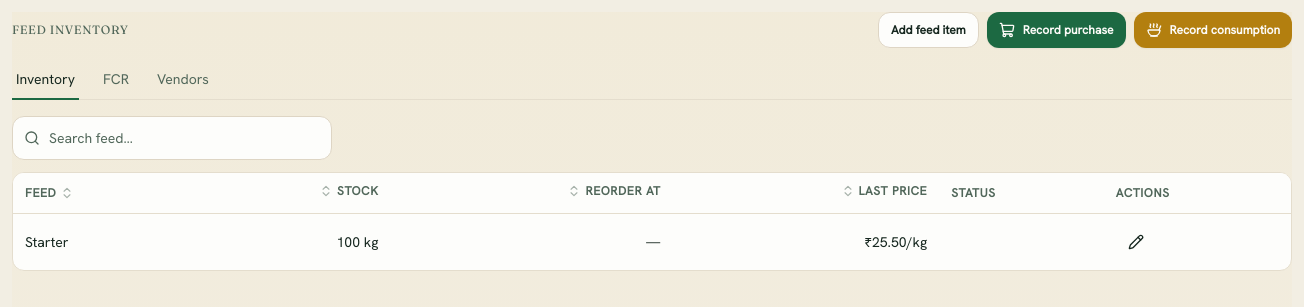
Test: FeedPanel (11.6c conversion) › shows the FCR stat tiles for the selected batch
Expected: the text "Starter" is shown, [25,232,68,250]
Step 1. Click the tab "FCR" → click(116, 80), box [99,60,133,100]
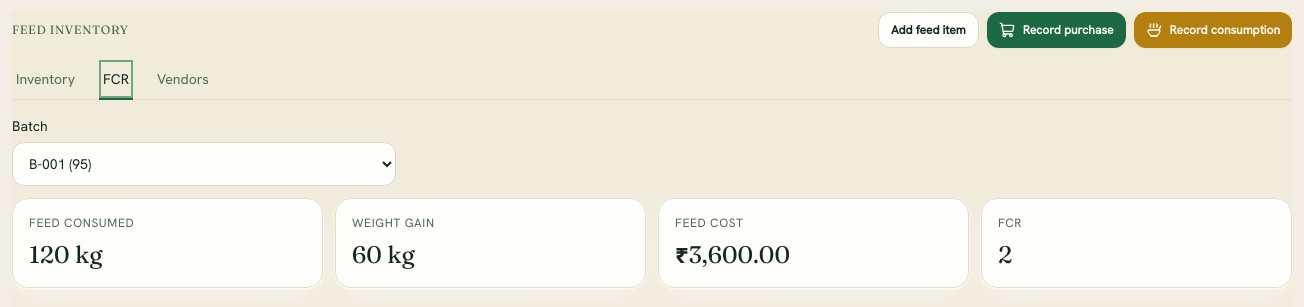
Now the text "120 kg" is shown, box [29,240,103,269]
Now the text "60 kg" is shown, box [352,240,415,269]
Now the text "₹3,600.00" is shown, box [675,240,790,269]
